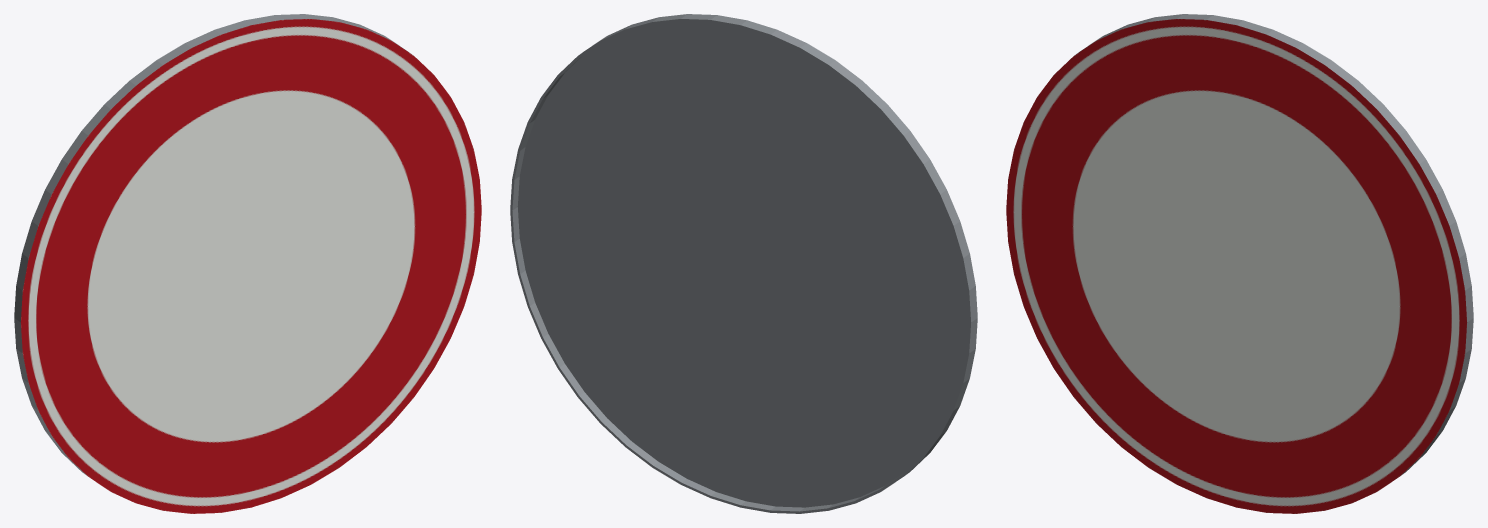
The picture shows the model from 3 angles, left to right: view 1: azimuth 30°, elevation 25°; view 2: azimuth 150°, elevation 25°; view 3: azimuth 330°, elevation 25°; orthographic projection.
Visible parts, largest first — view 1: C1; view 2: C1; view 3: C1.
Part boxes in pixels (bbox=[...]): C1: bbox=[14, 14, 481, 513]; C1: bbox=[510, 14, 977, 513]; C1: bbox=[1006, 14, 1473, 513].
Size of the model in its own units: 0.6 by 0.015 by 0.6.
Materials: 2 (1 with a texture image).
